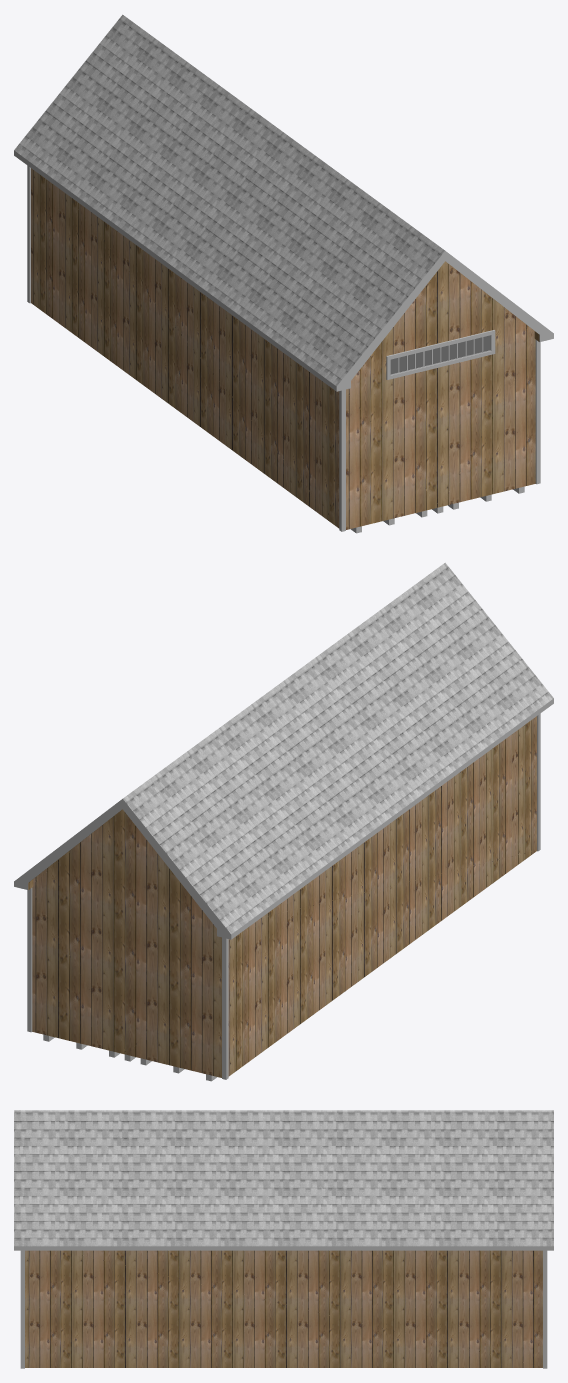
The model's file is Elite Garage_12x32.obj.
3 views of the same model, one above another, from view 1: azimuth 30°, elevation 25°; view 2: azimuth 150°, elevation 25°; view 3: azimuth 270°, elevation 25° (orthographic). The views are drawn at different scales.
Visible parts, largest first — view 1: Shed, Roof, Sides, Trim, Windows; view 2: Shed, Roof, Sides, Trim; view 3: Roof, Shed, Sides, Trim.
Part boxes in pixels (x1,y1,x2,y2): Shed: (31,168,539,529); Roof: (14,14,444,386); Sides: (14,150,553,391); Trim: (27,165,540,531); Windows: (390,335,490,374); Shed: (28,716,536,1077); Roof: (123,562,553,934); Sides: (14,698,553,939); Trim: (27,713,540,1079); Roof: (14,1110,553,1246); Shed: (25,1250,542,1367); Sides: (14,1246,553,1250); Trim: (20,1250,547,1368).
Bounding box in the file's own units: 3.91 × 4.57 × 10.06.
